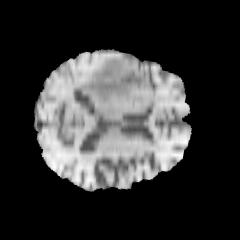glioma: (78, 57, 136, 101)
